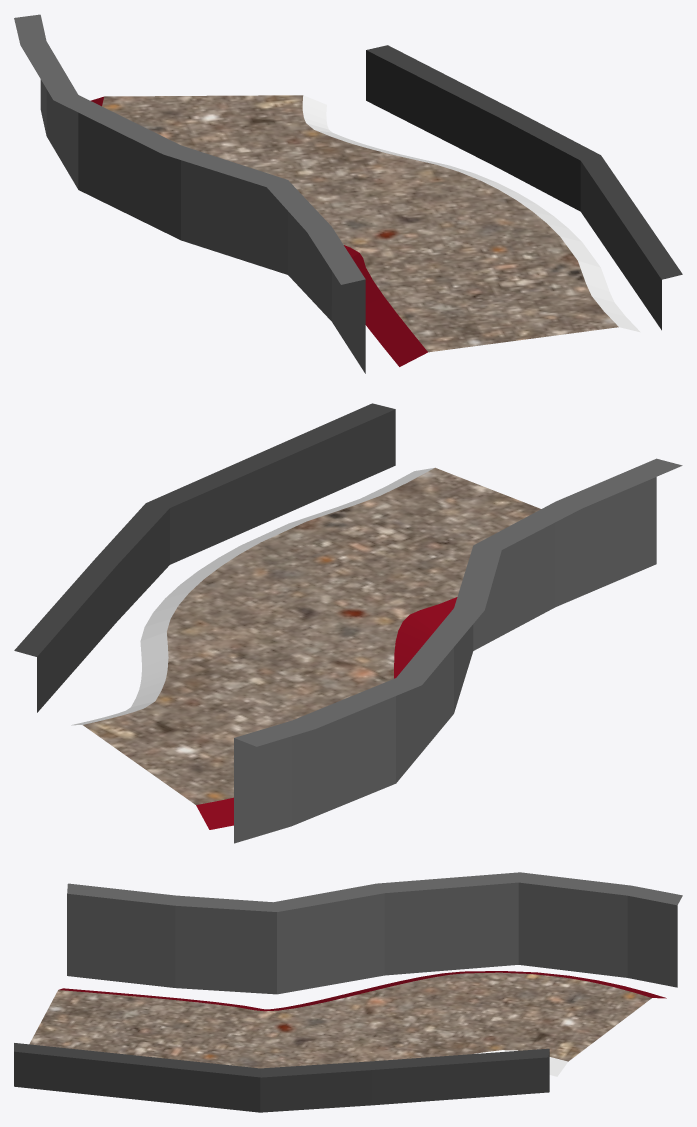
Rendered from KartTrackS23.fbx.
The picture shows the model from 3 angles, top to bottom: view 1: azimuth 30°, elevation 25°; view 2: azimuth 150°, elevation 25°; view 3: azimuth 270°, elevation 25°; orthographic projection. The views are drawn at different scales.
Parts seen in each view (by area): view 1: PistaS23; view 2: PistaS23; view 3: PistaS23.
Boxes of the visible parts, bbox=[...] form: PistaS23: bbox=[14, 14, 682, 373]; PistaS23: bbox=[14, 403, 682, 843]; PistaS23: bbox=[14, 872, 682, 1112].
Size of the model in its own units: 3281 by 749 by 5515.
